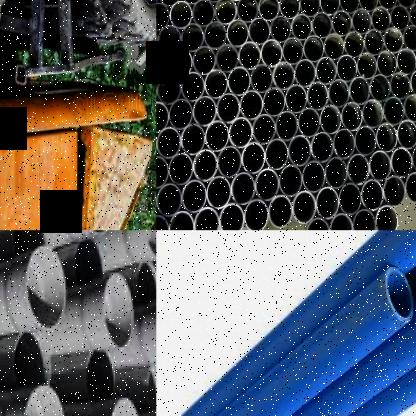pipe: (22, 242, 68, 332), (98, 270, 136, 354), (9, 328, 54, 391), (82, 346, 119, 398), (385, 266, 414, 324), (22, 383, 67, 416), (74, 239, 105, 285), (132, 259, 156, 308), (9, 230, 46, 258), (156, 184, 182, 218), (230, 172, 256, 206), (254, 168, 279, 203), (216, 146, 242, 179), (181, 180, 206, 214), (206, 176, 231, 210), (278, 164, 303, 198), (168, 153, 193, 187), (301, 161, 326, 194), (193, 150, 218, 183), (180, 124, 205, 157), (292, 191, 316, 225), (315, 187, 339, 221), (168, 99, 193, 131), (192, 96, 217, 128), (268, 196, 293, 228), (241, 143, 266, 175), (264, 139, 289, 171), (106, 395, 144, 416), (324, 157, 348, 190), (239, 90, 264, 121), (180, 72, 205, 103), (156, 128, 181, 159), (338, 184, 362, 216), (228, 117, 252, 149), (252, 114, 276, 146), (332, 128, 355, 161), (226, 67, 251, 97), (168, 49, 193, 79), (243, 200, 268, 230), (274, 111, 298, 142), (262, 87, 286, 118), (157, 75, 181, 106), (205, 121, 229, 152), (360, 180, 383, 212), (347, 154, 370, 186), (310, 132, 333, 164), (216, 94, 240, 124), (204, 70, 228, 100), (288, 136, 311, 167), (383, 176, 405, 208), (390, 147, 412, 179), (217, 204, 244, 230), (180, 24, 204, 53), (297, 108, 320, 138), (284, 84, 307, 114), (382, 96, 404, 127), (368, 151, 390, 182), (354, 126, 376, 157), (375, 123, 397, 154), (192, 47, 216, 75), (158, 26, 181, 55), (204, 22, 227, 51), (319, 105, 341, 135), (170, 1, 192, 31), (250, 65, 273, 93), (226, 20, 249, 48), (340, 102, 362, 131), (306, 82, 328, 111), (368, 74, 390, 103), (272, 62, 294, 91), (294, 59, 316, 88), (216, 44, 238, 73), (238, 42, 260, 71), (282, 37, 304, 66), (248, 17, 270, 46), (328, 79, 349, 109), (191, 0, 214, 27), (388, 72, 410, 100), (356, 52, 378, 80), (260, 40, 282, 68), (302, 35, 324, 63), (270, 16, 292, 44), (349, 77, 370, 106), (315, 57, 336, 86), (336, 54, 357, 83), (396, 120, 416, 150), (193, 207, 219, 230), (350, 8, 372, 35), (323, 33, 344, 61), (343, 31, 364, 59), (291, 14, 312, 42), (311, 12, 332, 40), (362, 100, 382, 129), (374, 206, 398, 230), (376, 50, 396, 78), (396, 47, 416, 75), (364, 29, 384, 57), (331, 10, 351, 38), (214, 0, 236, 25), (383, 27, 403, 54), (390, 5, 410, 32), (235, 0, 258, 23), (139, 230, 156, 261), (371, 7, 390, 33), (168, 212, 194, 230), (352, 209, 374, 230), (328, 213, 353, 230), (258, 0, 278, 21), (279, 0, 300, 20), (156, 156, 168, 190), (156, 102, 169, 133), (404, 172, 416, 204), (402, 25, 416, 52), (403, 93, 416, 122), (156, 51, 169, 80), (156, 3, 169, 31), (299, 0, 319, 18), (319, 0, 339, 16), (339, 0, 359, 15), (305, 219, 330, 230), (358, 0, 378, 13), (408, 69, 416, 97), (377, 0, 397, 11), (408, 3, 416, 29), (410, 144, 416, 175), (156, 216, 169, 230), (396, 0, 415, 8), (158, 0, 180, 6), (179, 0, 202, 5), (415, 45, 416, 73)
